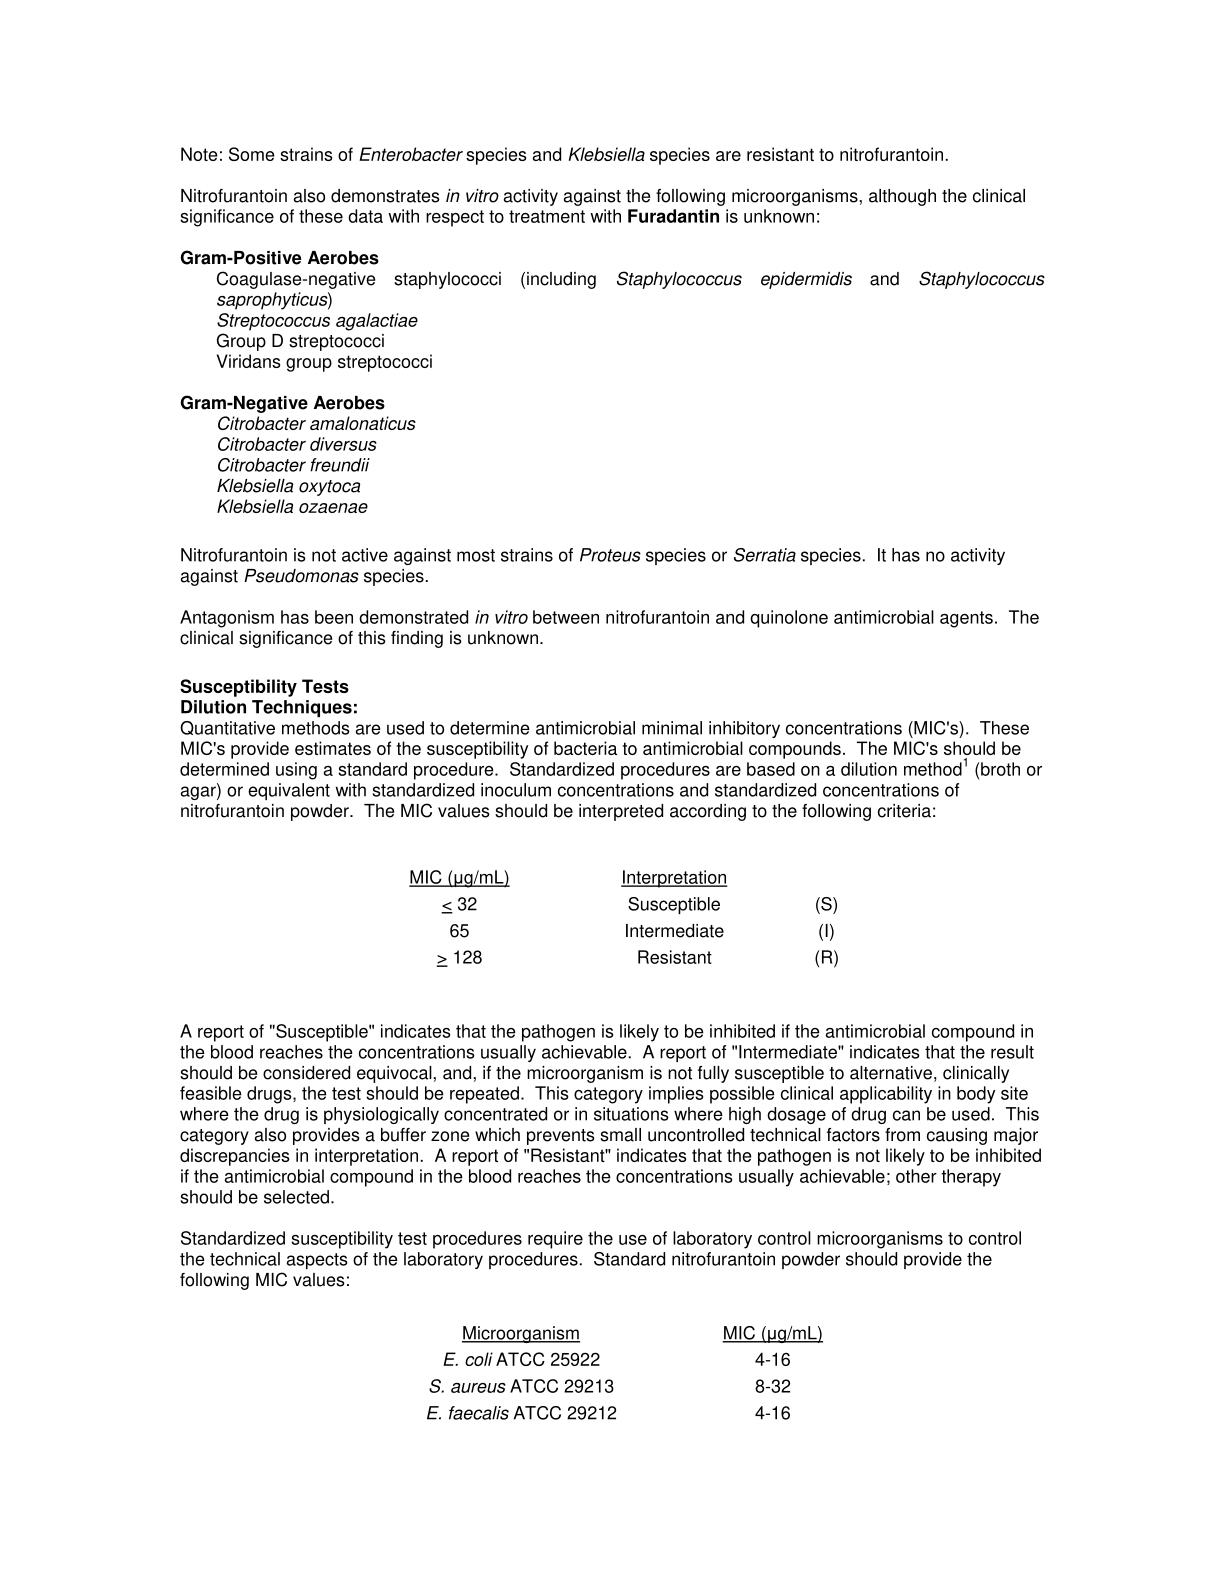nolines: (405, 865, 842, 969), (429, 1326, 823, 1419)
